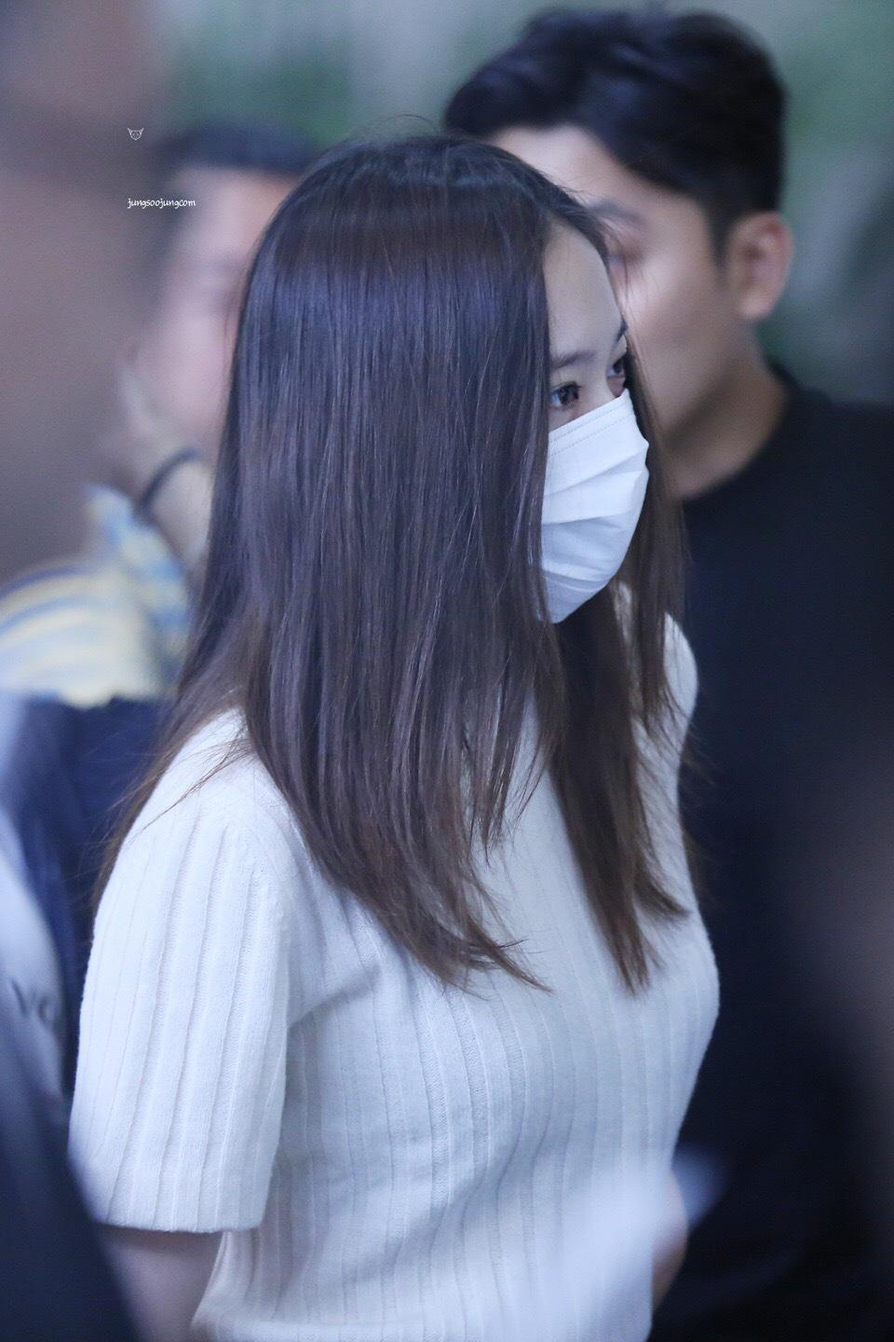OK: (533, 298, 653, 632)
